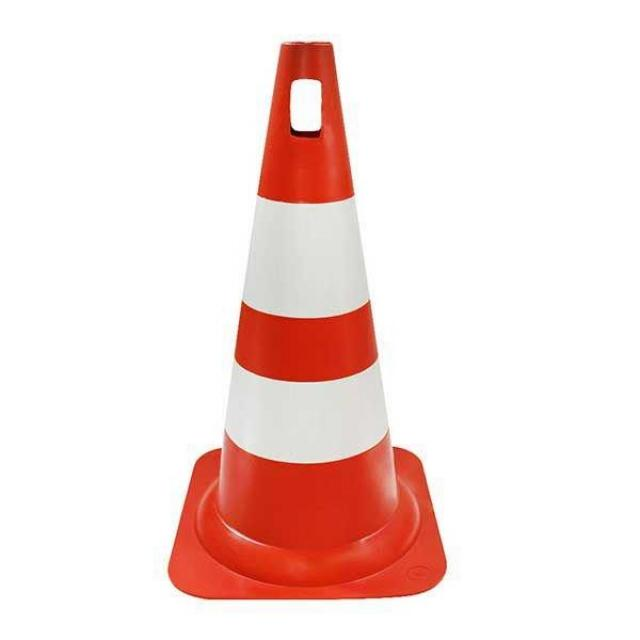cone: (157, 32, 452, 591)
